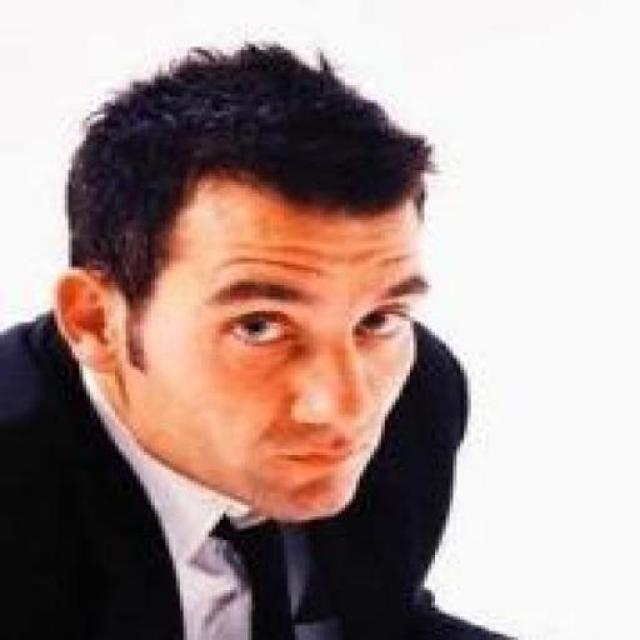bareface: (104, 109, 428, 525)
